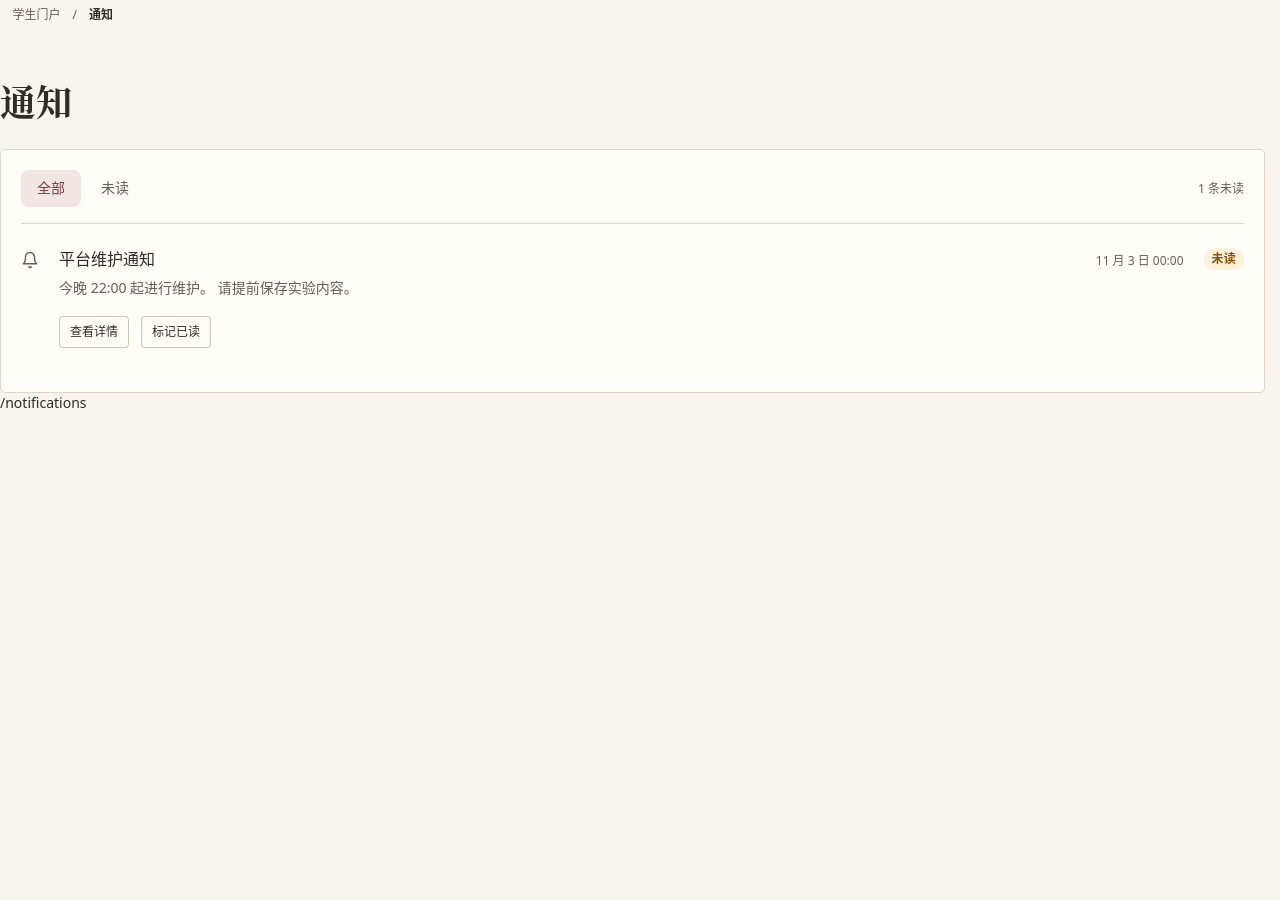
Test: 没有关联课程的系统通知也能查看完整正文
Click the button "查看详情".
click(94, 332)  # box [59, 316, 129, 348]
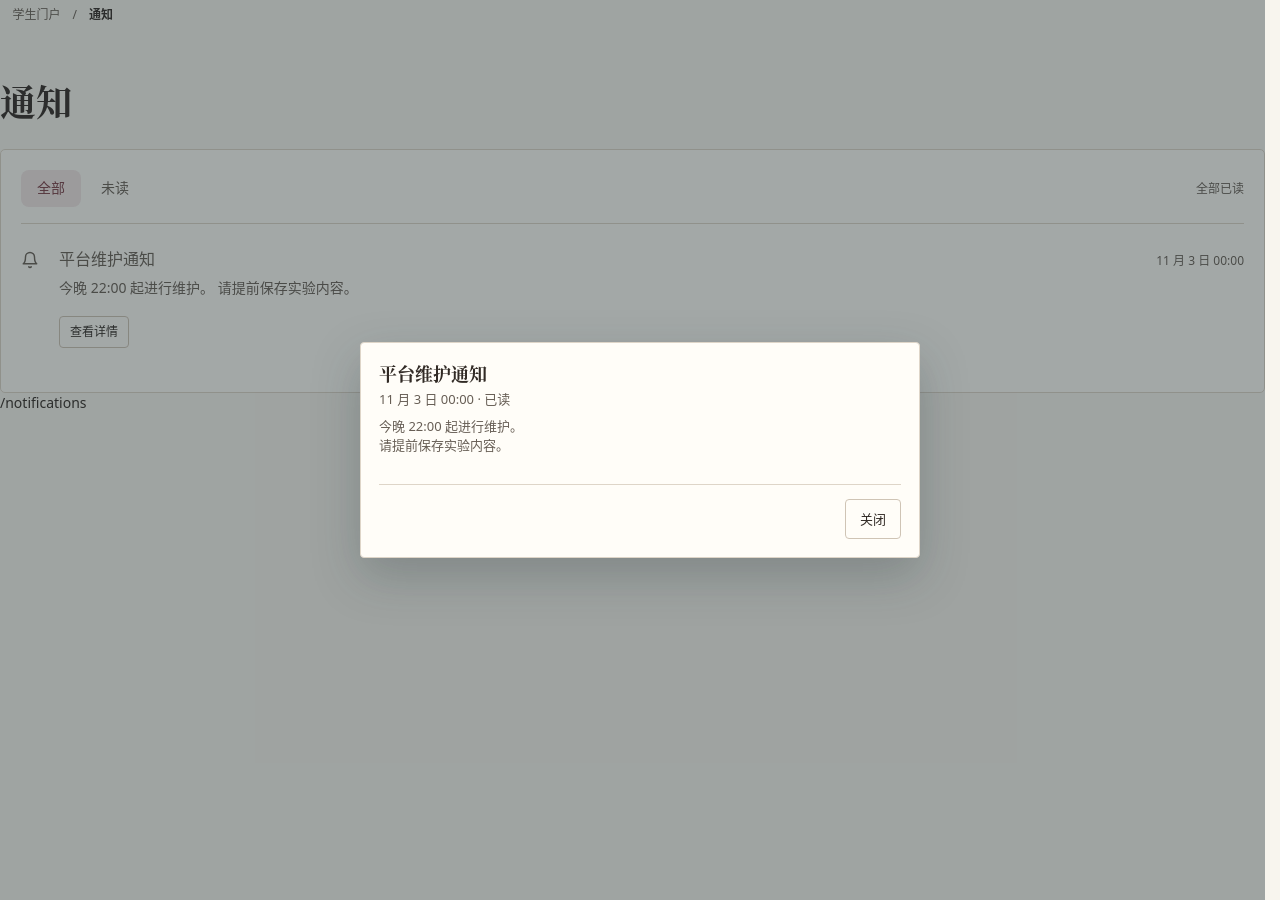
Expected: the text "今晚 22:00 起进行维护。 请提前保存实验内容。" is shown, [379, 417, 523, 454]
